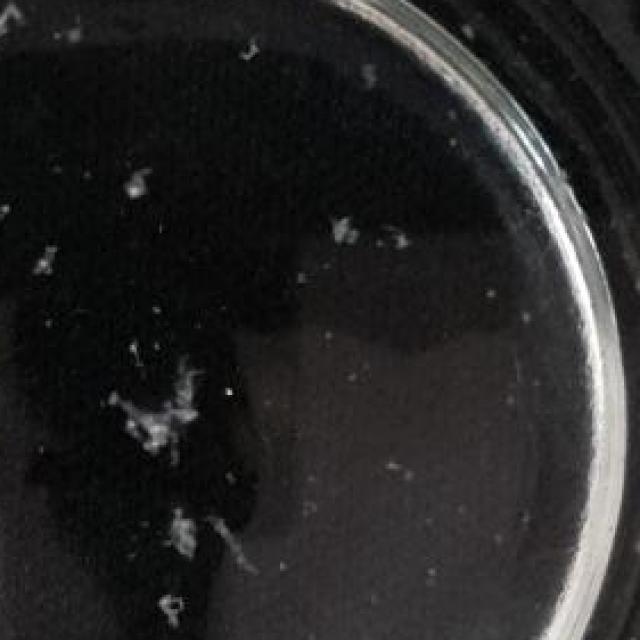Microplastic: (98, 347, 216, 452), (310, 190, 364, 262), (134, 580, 198, 640), (14, 221, 70, 288), (160, 495, 208, 573), (116, 157, 164, 205), (0, 0, 43, 47)
